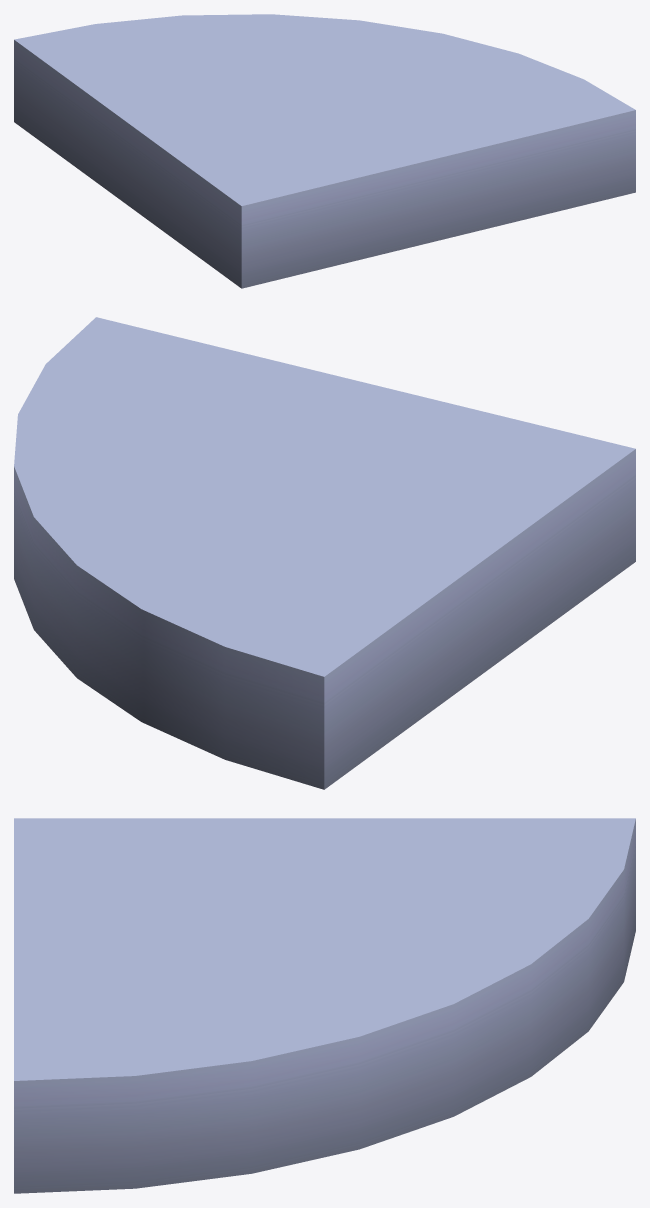
The model's file is kenney-prototype-floor-thick-corner-round.glb.
3 renders of one model, top to bottom at view 1: azimuth 30°, elevation 25°; view 2: azimuth 150°, elevation 25°; view 3: azimuth 270°, elevation 25°, orthographic. The views are drawn at different scales.
Visible parts, largest first — view 1: floor-thick-corner-round; view 2: floor-thick-corner-round; view 3: floor-thick-corner-round.
Boxes of the visible parts, x1,y1,x2,y2 form: floor-thick-corner-round: [14, 14, 635, 288]; floor-thick-corner-round: [14, 317, 635, 789]; floor-thick-corner-round: [14, 818, 635, 1193].
Bounding box in the file's own units: 1 × 0.2 × 1.
1 material, 1 textured.
